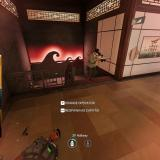Character: (86, 48, 111, 82)
Head: (94, 49, 100, 56)
